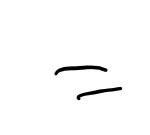eqv: (53, 65, 122, 101)
